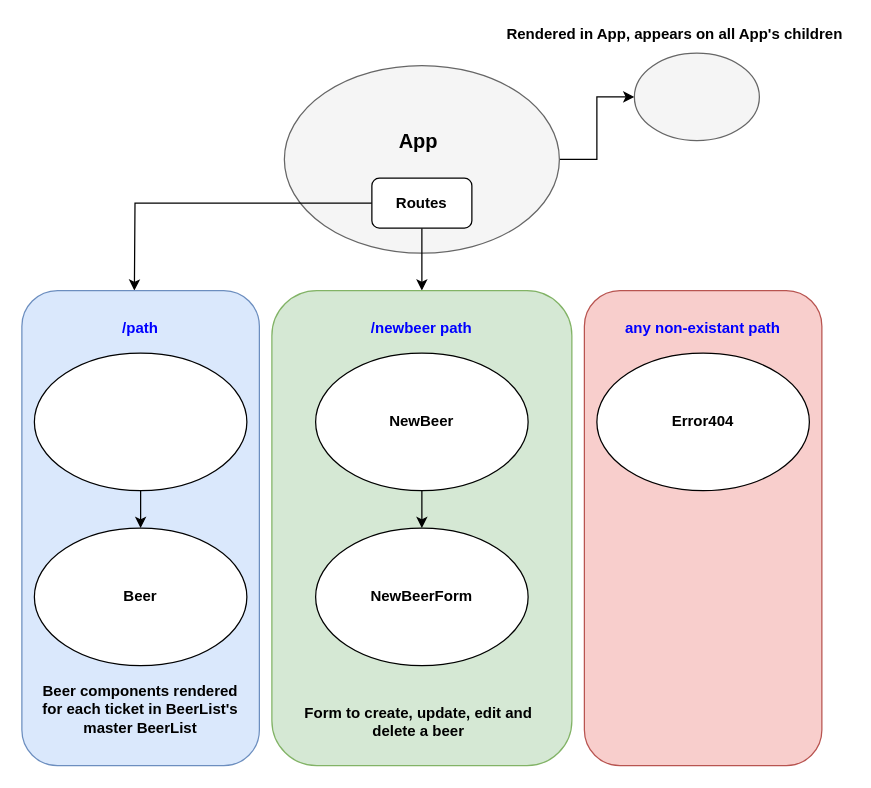
Some shapes in this 871 by 788 pixel diagram are drawn without their labels. The centre of each missing label's shape, as x and y in pixels:
BeerList: the point at 140,421
Header: the point at 696,96
